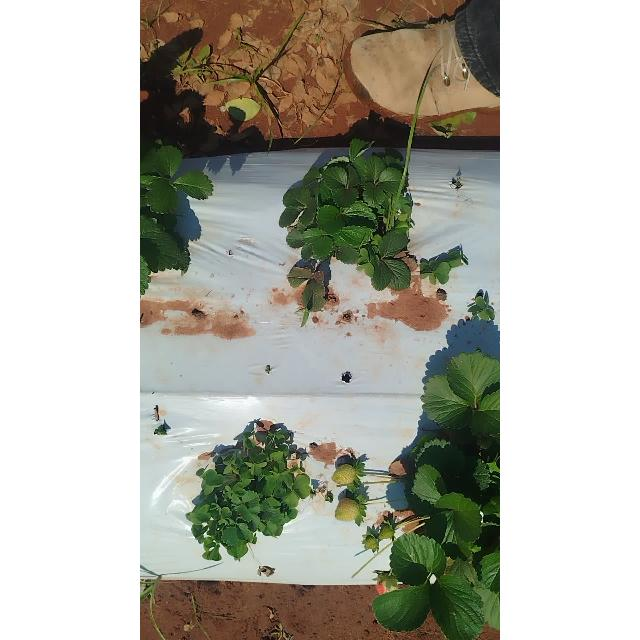no-maduro: (334, 498, 362, 522), (331, 464, 355, 486), (378, 522, 394, 540), (364, 535, 376, 549)
